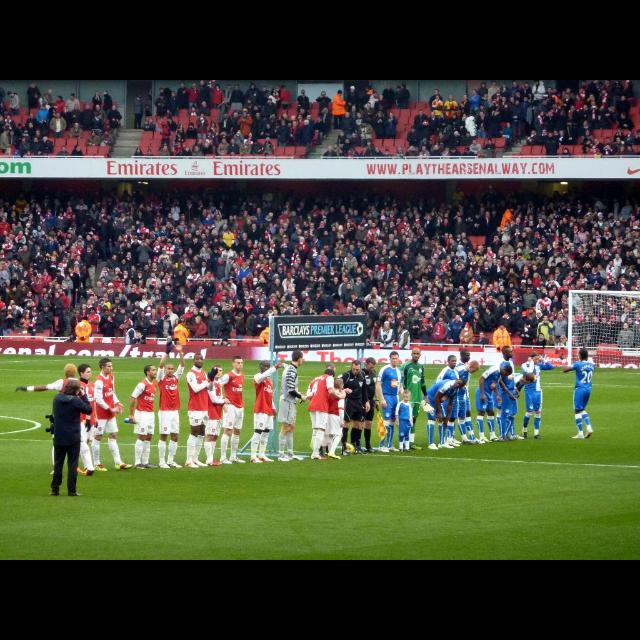Football: (342, 443, 356, 455)
